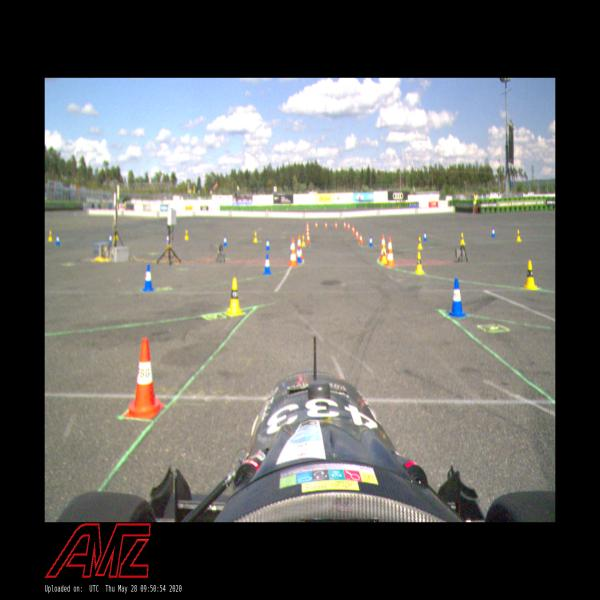blue_cone: (448, 278, 464, 317), (142, 264, 153, 291), (262, 250, 271, 274), (296, 246, 302, 263), (222, 235, 228, 249), (265, 238, 270, 250), (491, 226, 496, 237), (56, 234, 60, 245), (369, 236, 373, 246), (424, 230, 427, 242)
large_orange_cone: (288, 237, 298, 267), (386, 236, 396, 266), (379, 234, 387, 263), (296, 235, 302, 262)
orange_cone: (124, 336, 161, 417), (359, 233, 363, 244), (306, 233, 310, 244), (352, 225, 355, 234), (343, 220, 346, 228), (325, 221, 328, 228), (347, 223, 350, 230), (356, 229, 358, 239), (335, 222, 338, 228), (316, 222, 318, 228)
yellow_cone: (227, 278, 242, 318), (522, 259, 538, 290), (414, 251, 424, 277), (381, 243, 387, 265), (417, 236, 423, 250), (460, 231, 465, 246), (253, 230, 258, 244), (516, 229, 521, 242), (48, 227, 52, 242), (183, 231, 189, 240), (302, 235, 306, 248)
